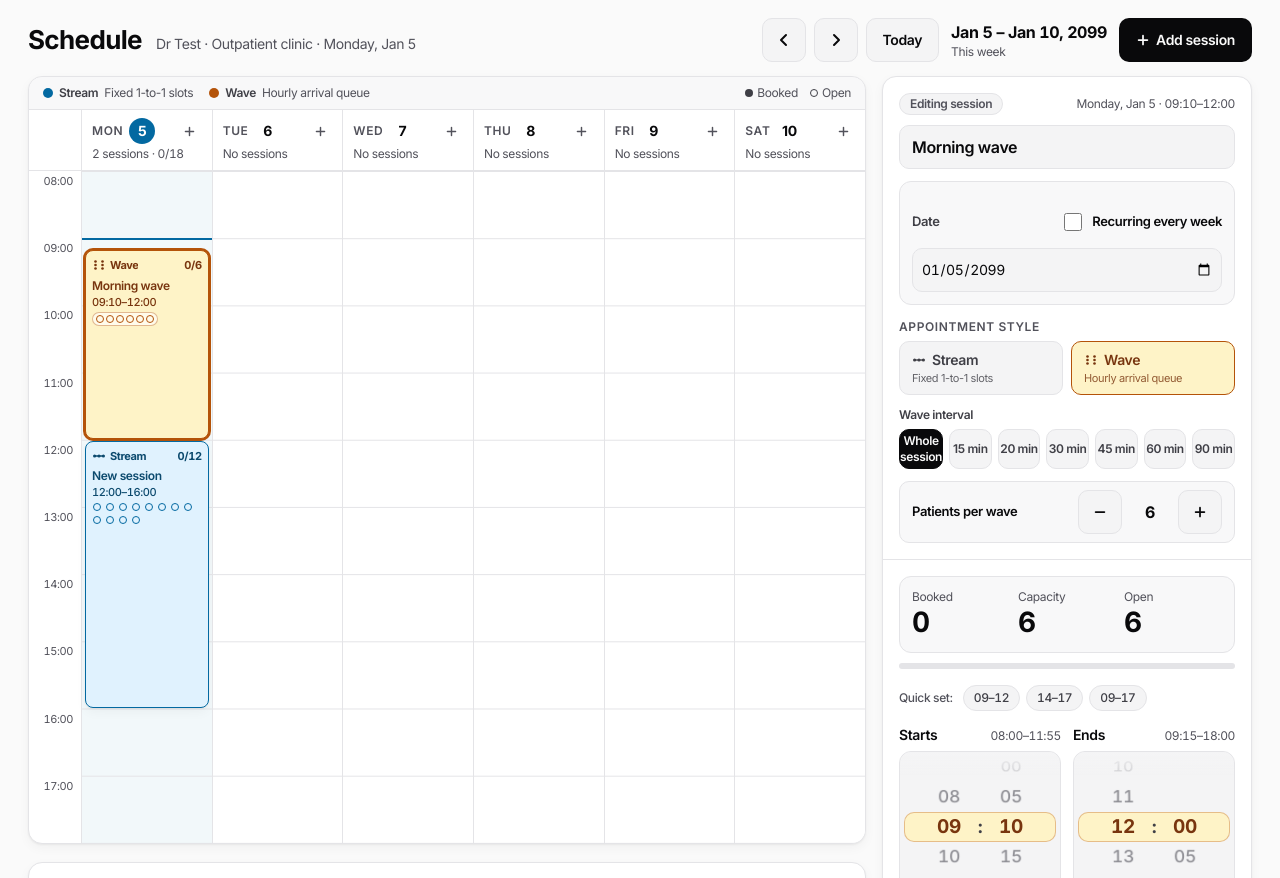
Test: Add session dates (regressions) › keeps the editor open when Recurring is ticked on a day that already has one-off sessions
(page scrolled)
Click the button "Add session" at (1186, 40), box [1119,18,1252,62]
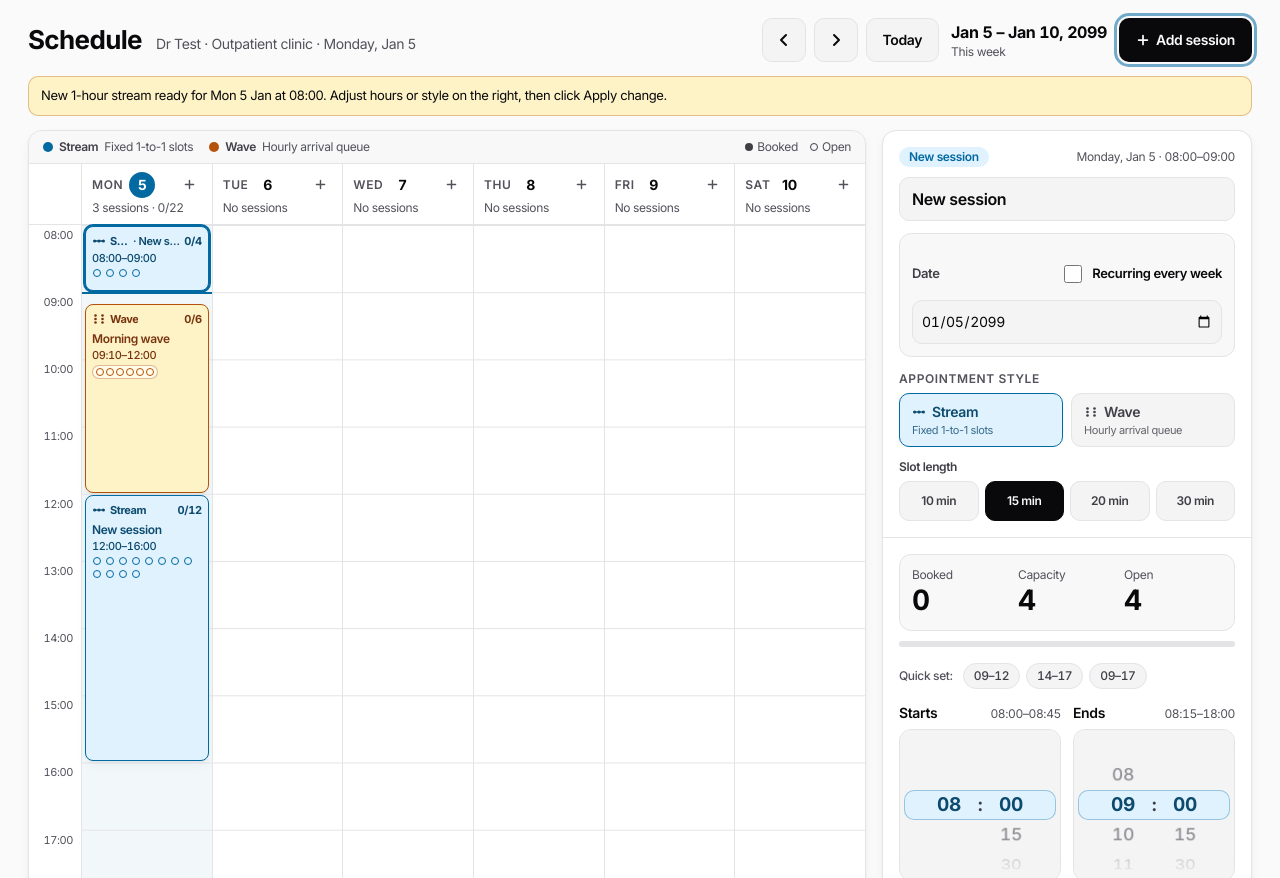
Click the checkbox labelled "Recurring every week" at (1073, 274), box [1064,265,1082,283]
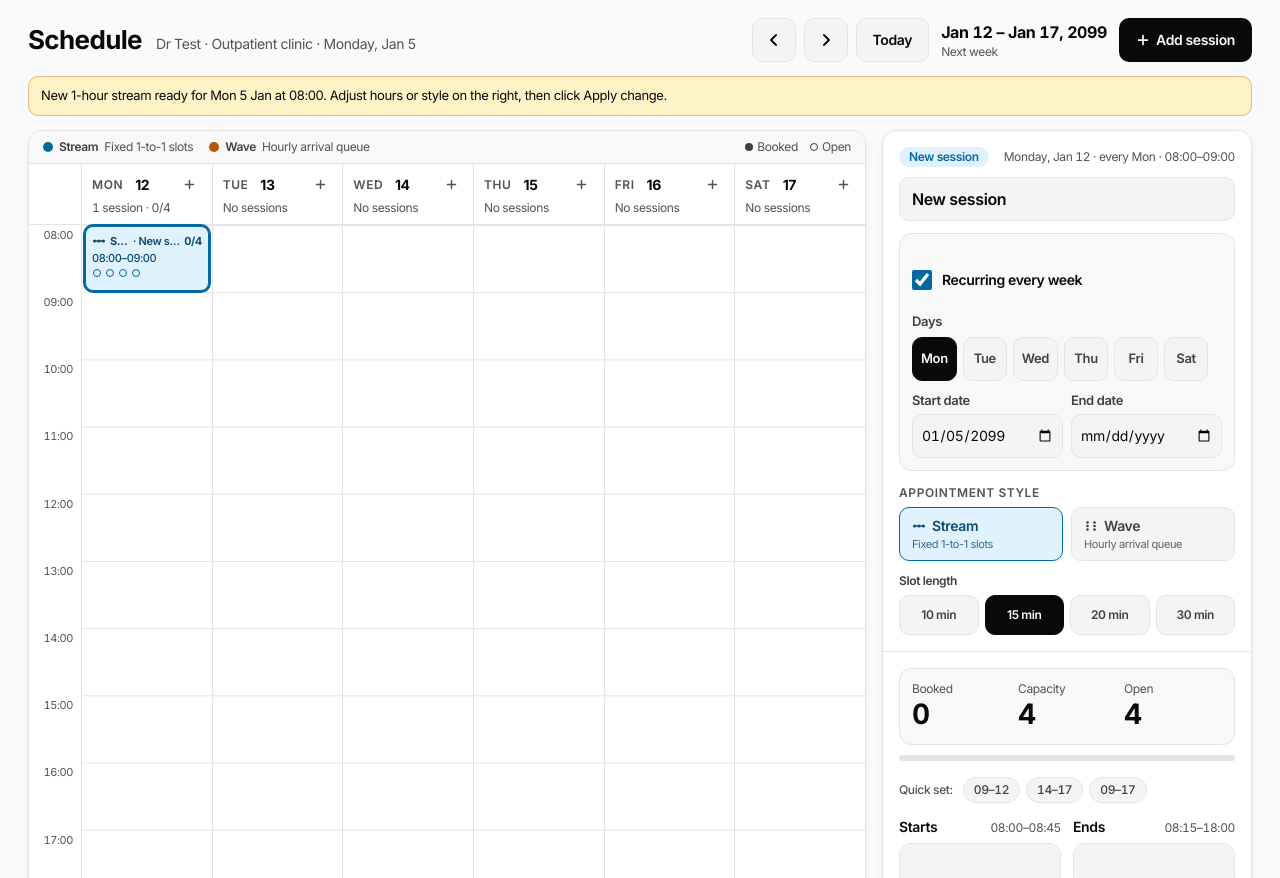
Result: the checkbox labelled "Recurring every week" is checked at [912,270,932,290]
Result: the date field labelled "Start date" is shown at [912,414,1063,458]
Result: the date field labelled "End date" is shown at [1071,414,1222,458]
